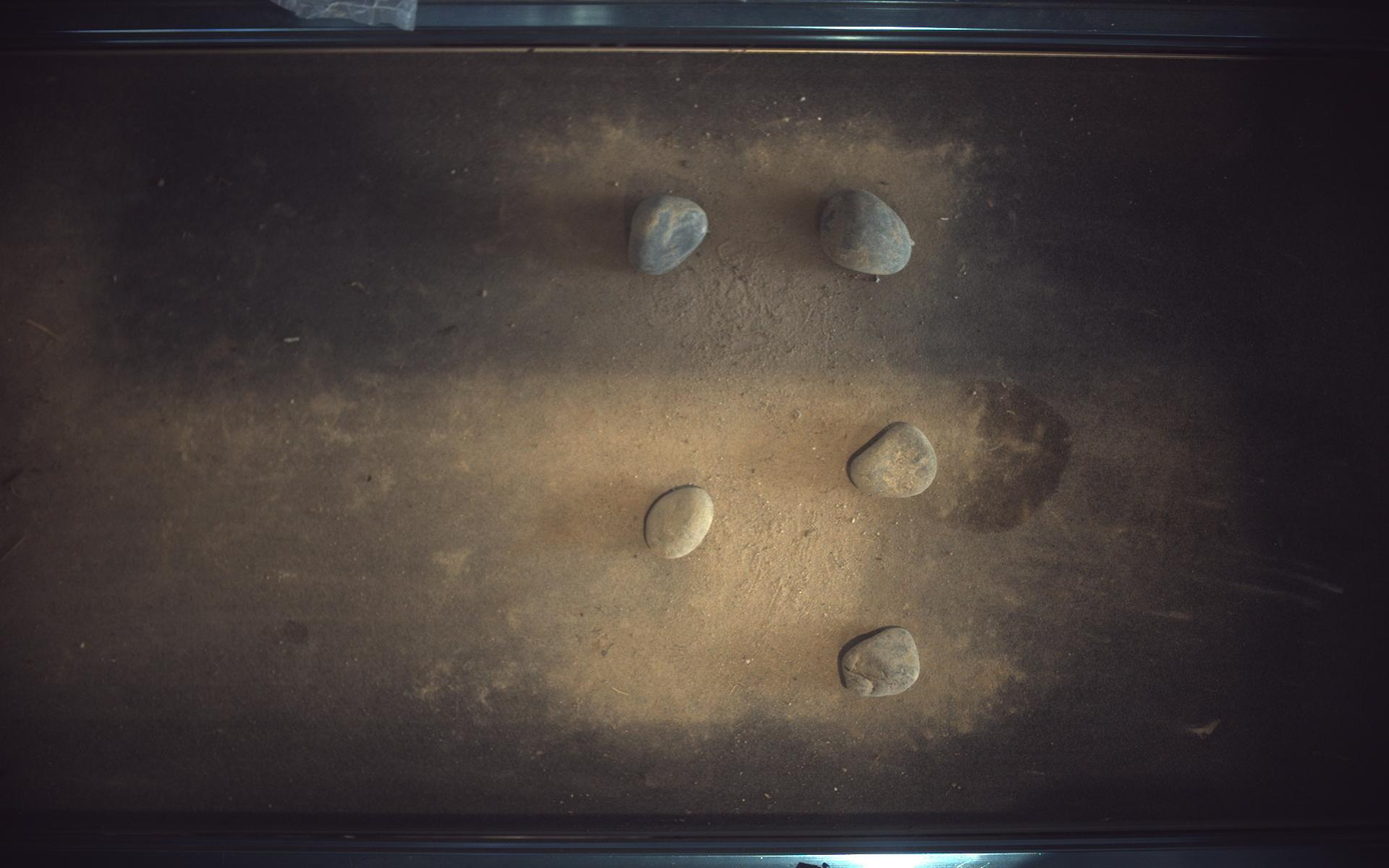stone: (823, 189, 915, 275), (850, 422, 939, 498), (629, 194, 708, 274), (844, 628, 922, 699), (645, 486, 715, 560)
